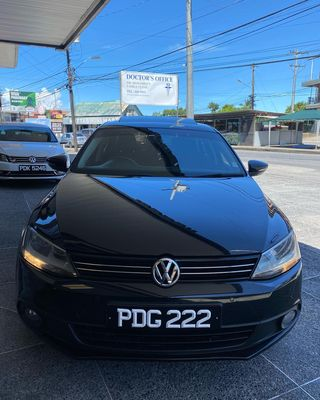License-Plate: (106, 305, 220, 328), (18, 164, 45, 170)
